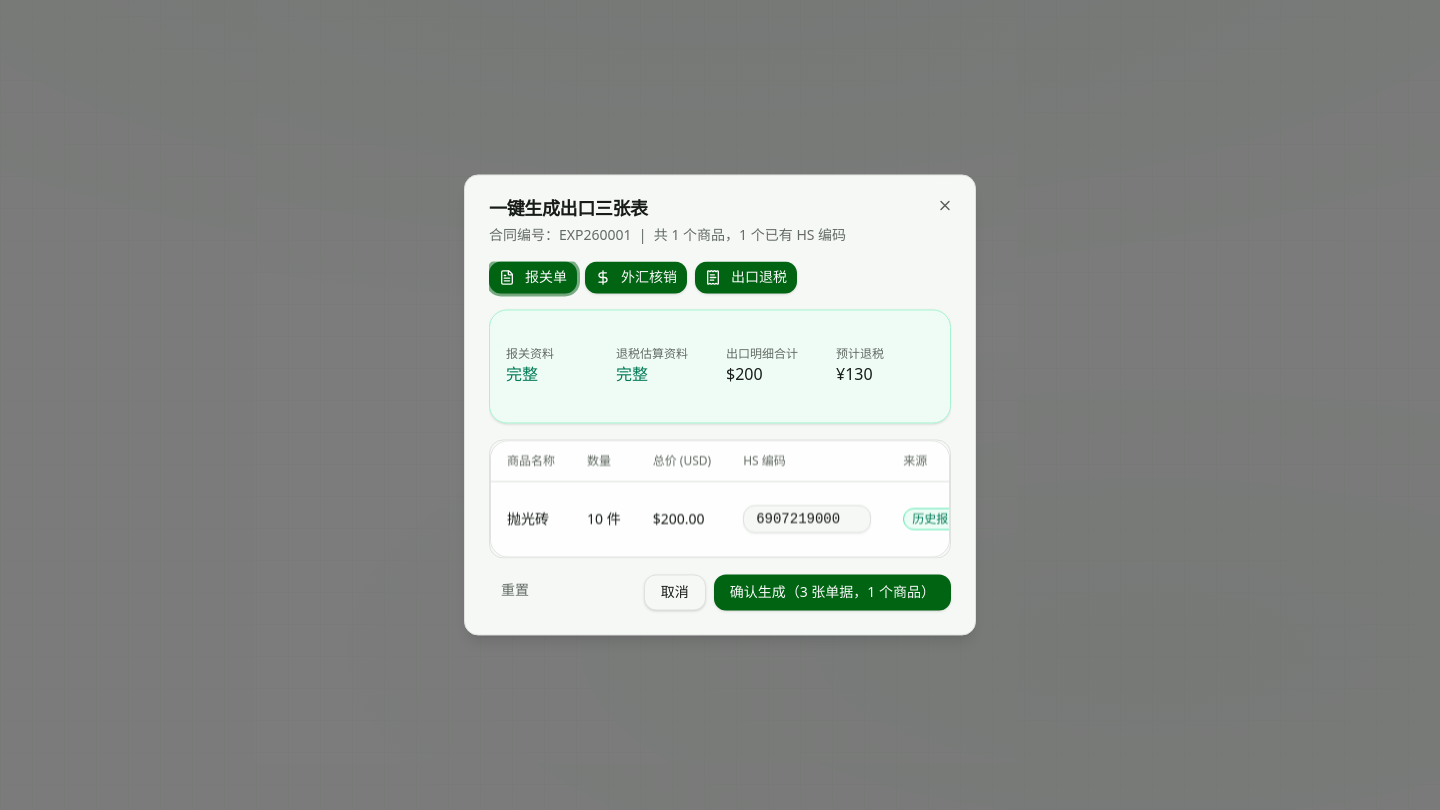
GenerateThreeFormsDialog › 未展开的 Axios 响应 保留可见提示且不自动重新生成
Click the button "确认生成（3 张单据，1 个商品）" at (832, 592), box [714,574,951,610]
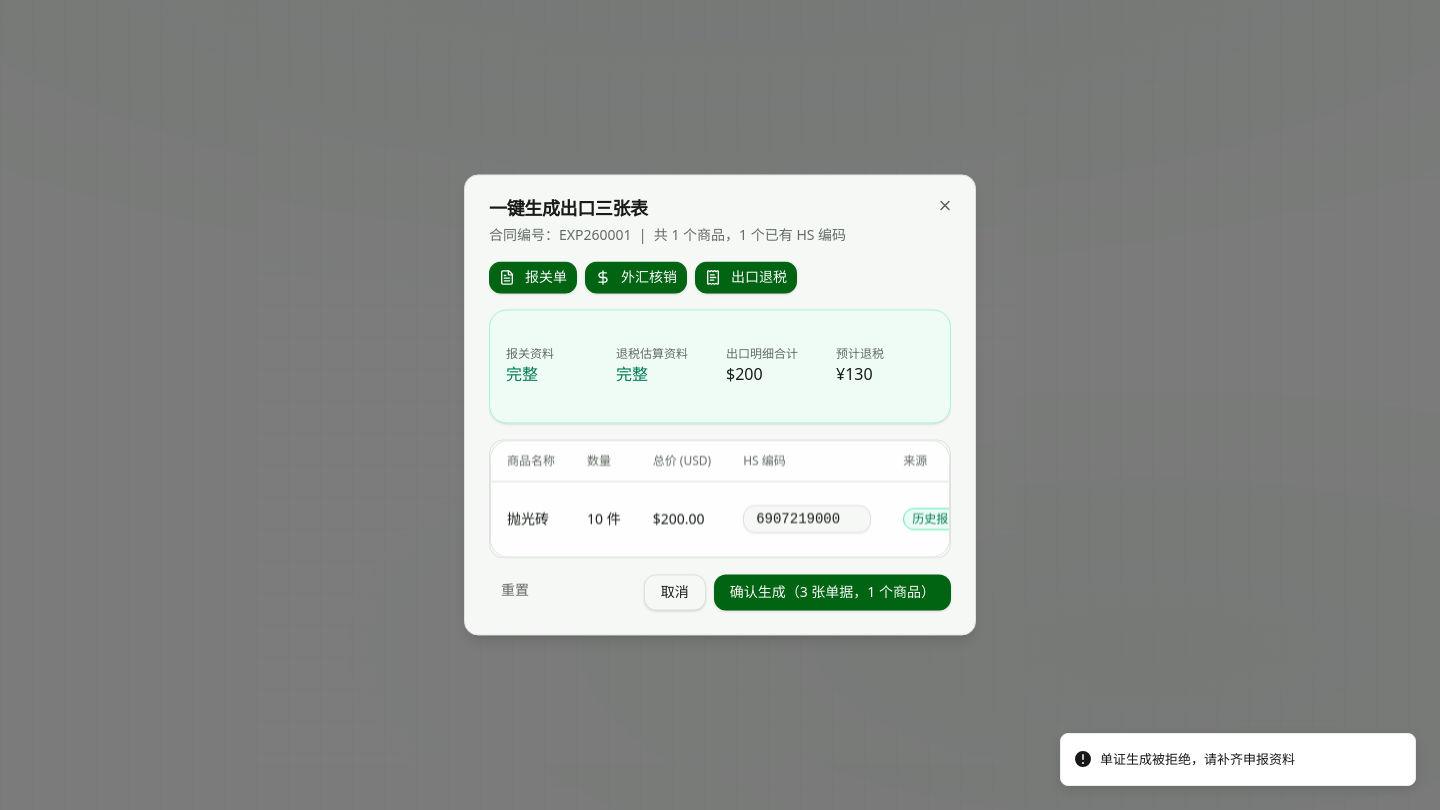
Expected: the dialog is shown, [464,174,976,636]
Expected: the text "单证生成被拒绝，请补齐申报资料" is shown, [1100,750,1295,769]
